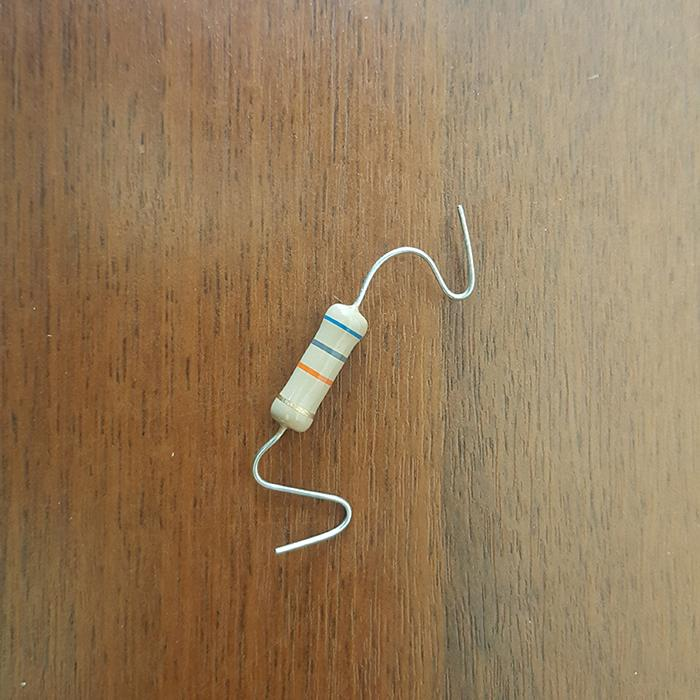resistor: (271, 304, 366, 431)
